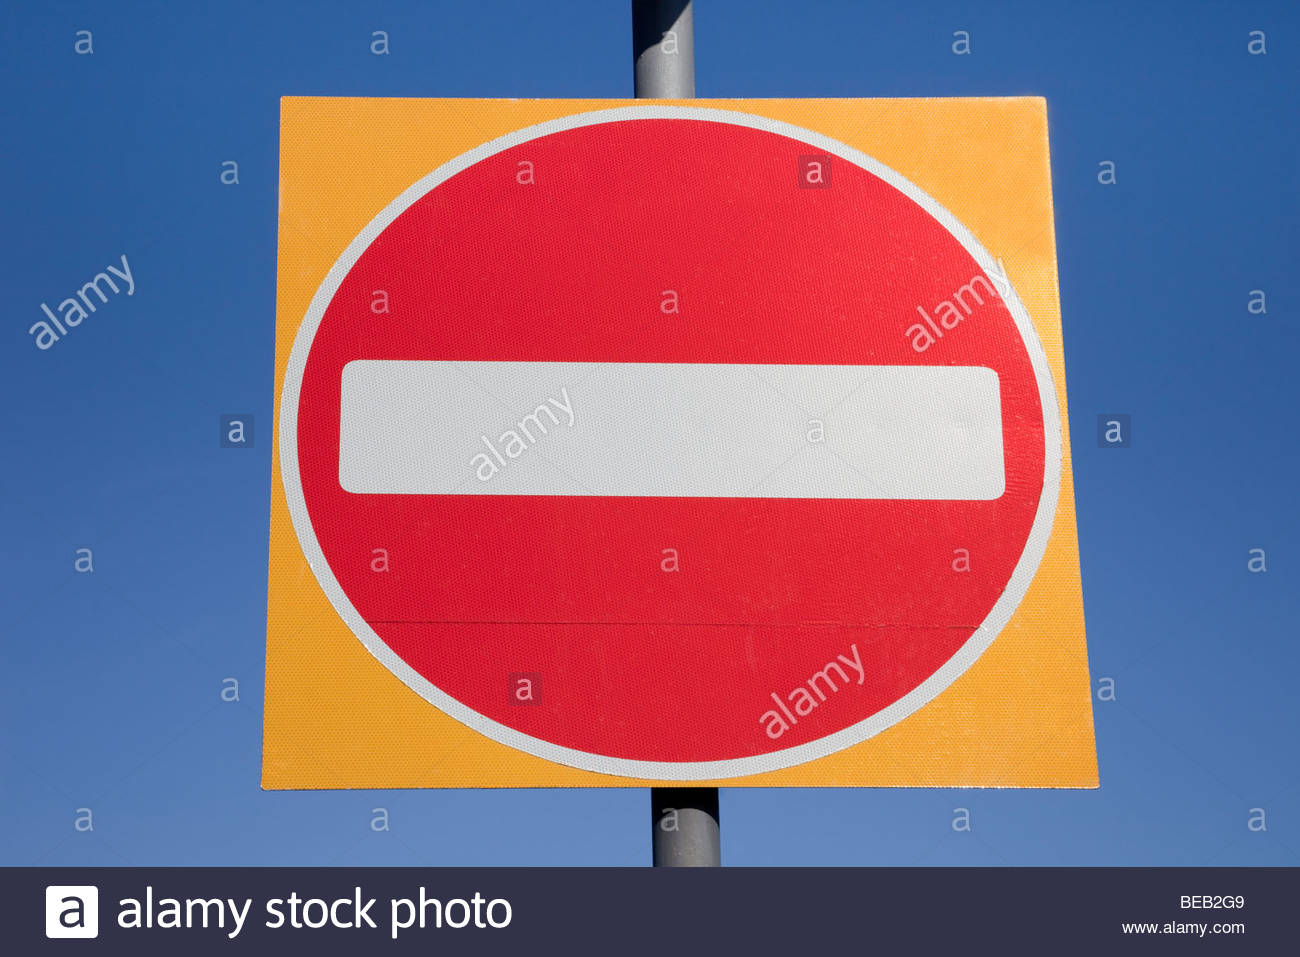No_entry: (276, 106, 1064, 775)
